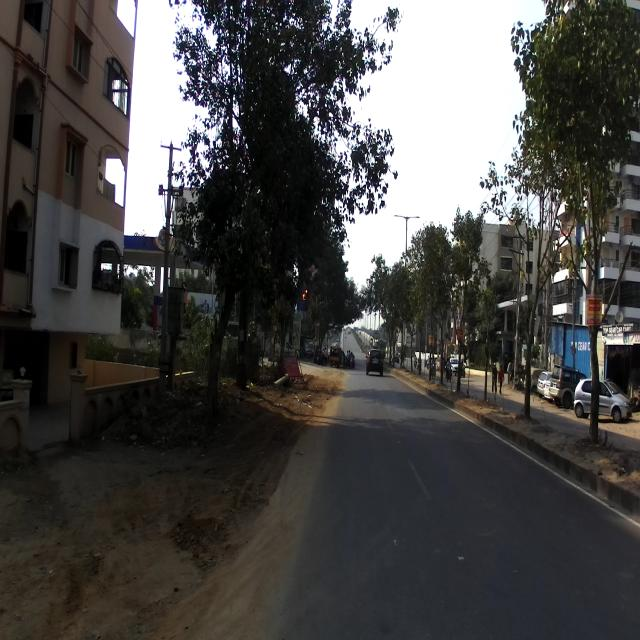tree ahead at: (190, 4, 315, 412)
